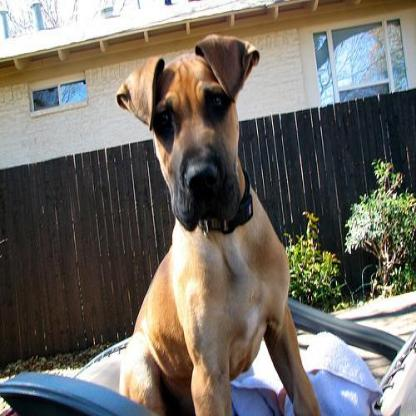Great_Dane: (113, 31, 322, 414)
